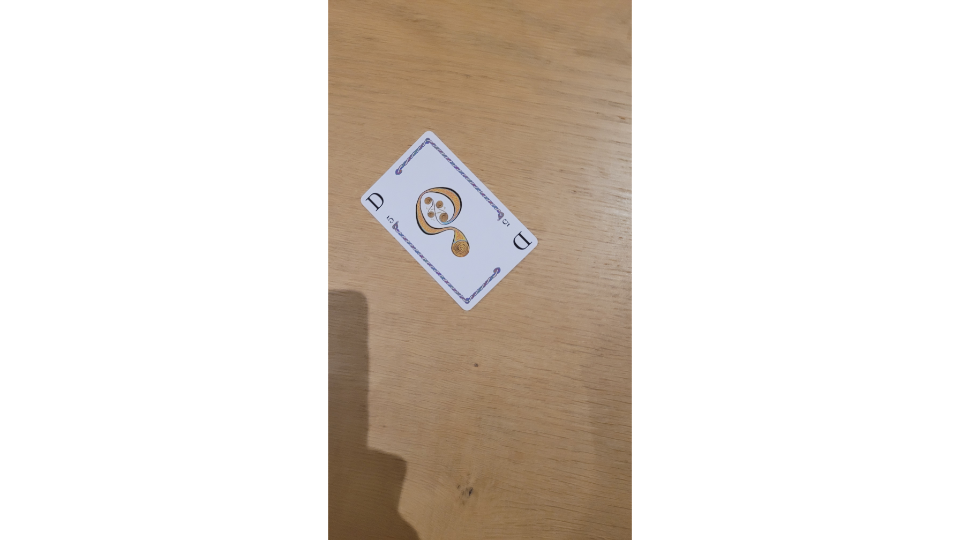D: (357, 125, 542, 314)
